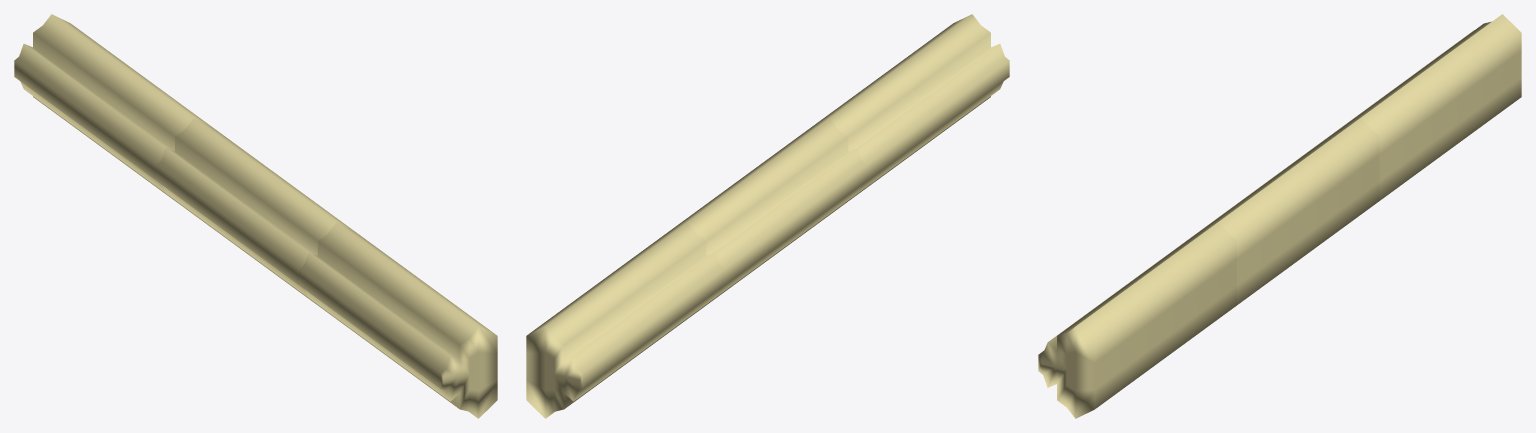
The model's file is Wall_Orn_05_x3.fbx.
3 renders of one model, left to right at view 1: azimuth 30°, elevation 25°; view 2: azimuth 150°, elevation 25°; view 3: azimuth 330°, elevation 25°, orthographic.
Parts seen in each view (by area): view 1: Wall_Orn_05_x3; view 2: Wall_Orn_05_x3; view 3: Wall_Orn_05_x3.
Boxes of the visible parts, <box> form: Wall_Orn_05_x3: <box>14,14,497,418</box>; Wall_Orn_05_x3: <box>526,14,1009,418</box>; Wall_Orn_05_x3: <box>1038,14,1521,418</box>.
Size of the model in its own units: 34.45 by 53.89 by 451.
